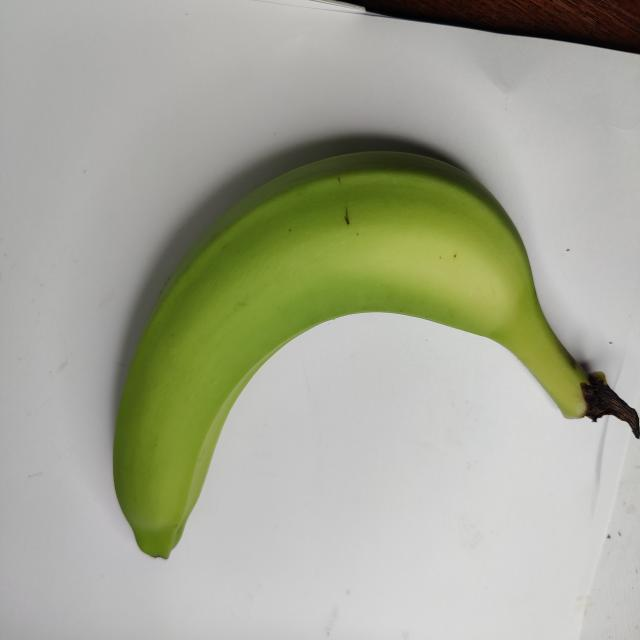raw: (80, 102, 640, 568)
